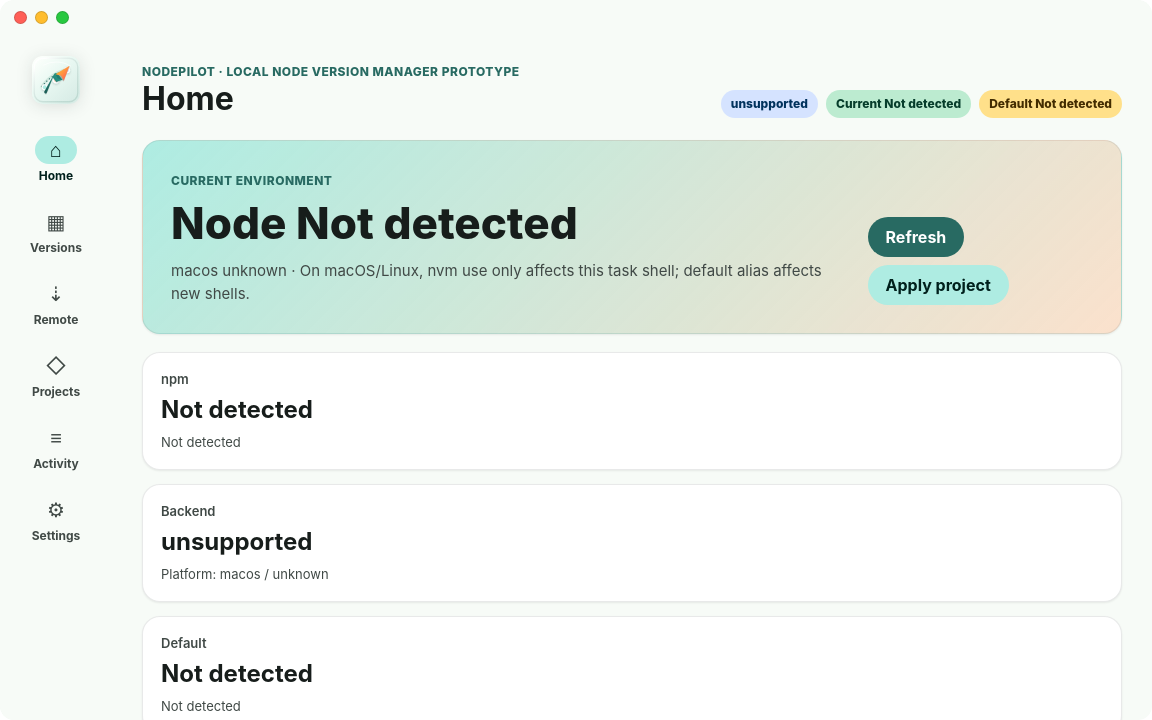
it: App › renders Settings diagnostics for permission and path issues
Click the button with aria-label "Open Settings" at (56, 520), box [14,488,98,552]
(page scrolled)
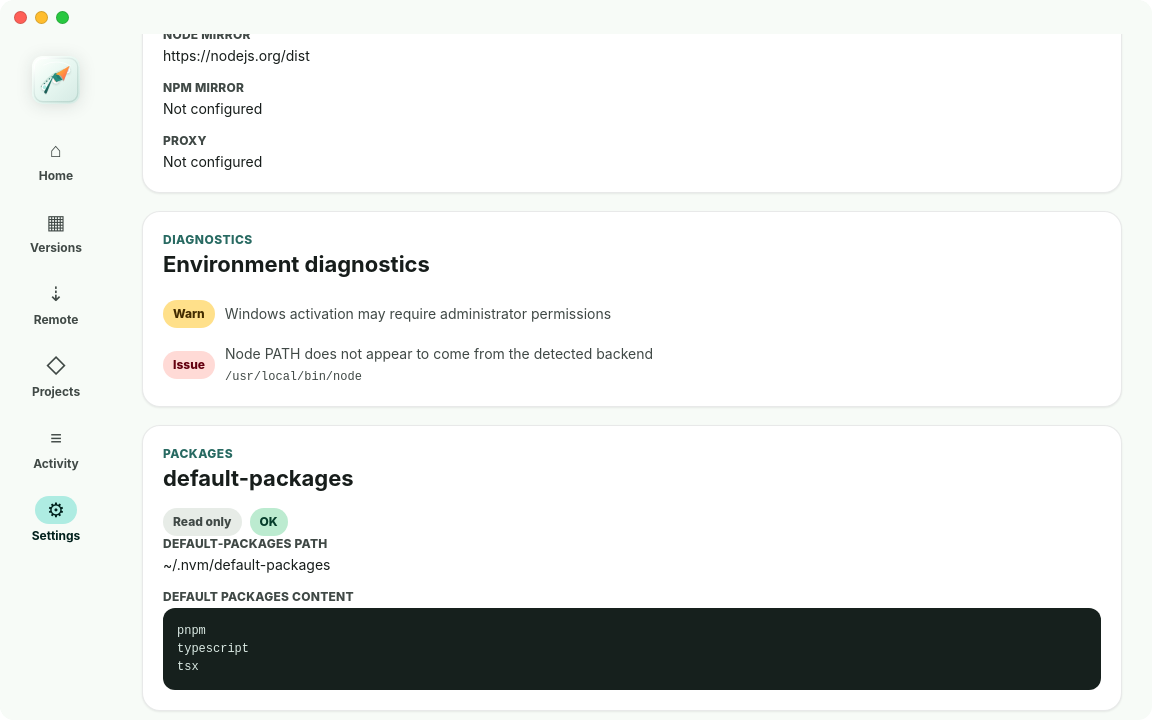
Expected: the heading "Environment diagnostics" is shown, [163,251,430,277]
Expected: the text "Windows activation may require administrator permissions" is shown, [225,305,611,322]
Expected: the text "Node PATH does not appear to come from the detected backend" is shown, [225,345,653,362]
